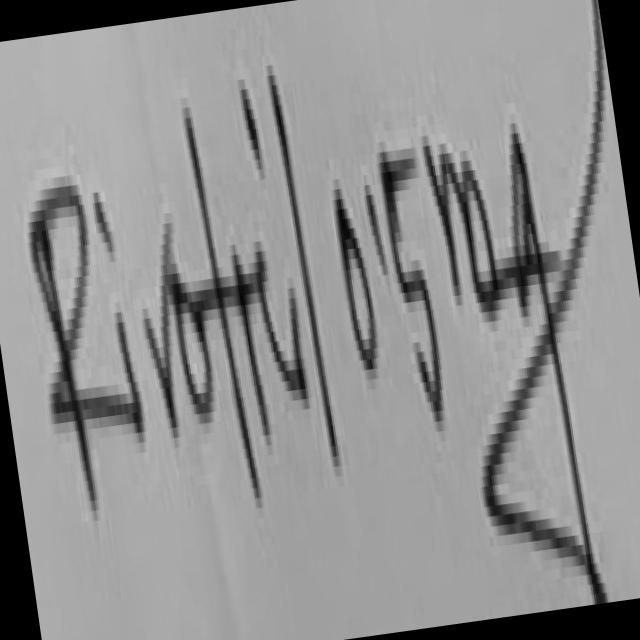0: (337, 189, 380, 375)
5: (383, 152, 443, 416)
R: (36, 167, 121, 507)
g: (485, 0, 607, 598)
i: (118, 313, 144, 427), (285, 288, 308, 393), (243, 90, 263, 169), (94, 193, 113, 258)
l: (271, 76, 338, 452)
m: (419, 129, 500, 302)
o: (176, 284, 211, 407)
r: (235, 251, 293, 430)
t: (181, 103, 261, 506)
v: (145, 223, 178, 432)
